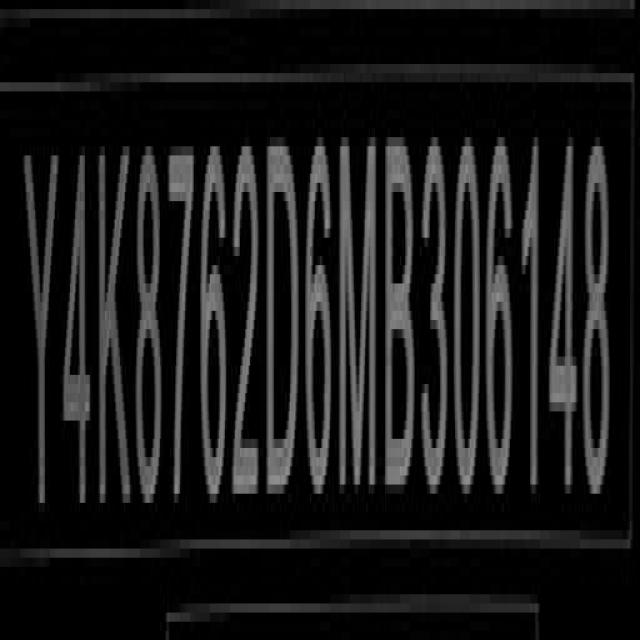0: (454, 130, 482, 508)
1: (521, 131, 543, 510)
2: (228, 135, 262, 514)
3: (421, 129, 452, 504)
4: (60, 139, 94, 522), (546, 134, 578, 506)
6: (303, 132, 336, 504), (200, 135, 231, 518), (485, 130, 515, 508)
7: (167, 138, 196, 512)
8: (135, 142, 165, 514), (584, 138, 614, 508)
B: (385, 128, 418, 497)
D: (268, 132, 300, 512)
K: (97, 144, 134, 522)
M: (340, 130, 380, 506)
Y: (22, 144, 59, 531)
